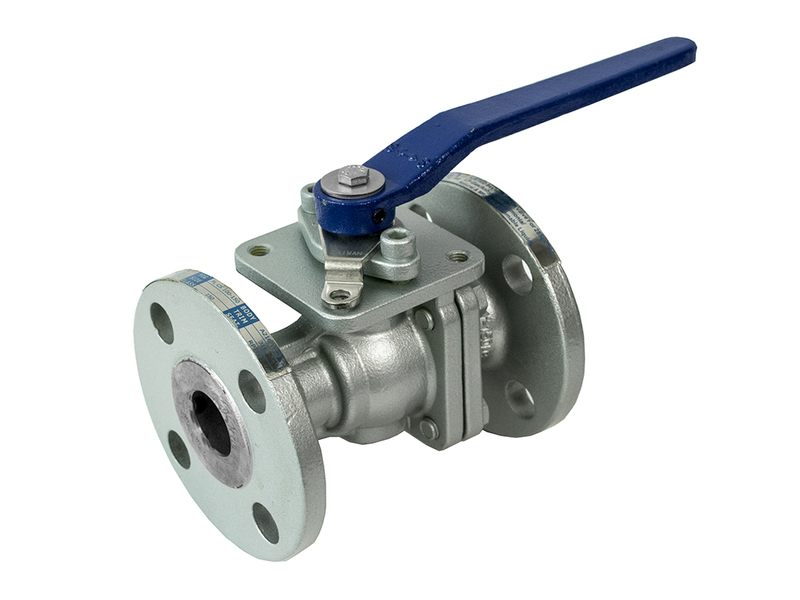valve: (81, 21, 728, 582)
